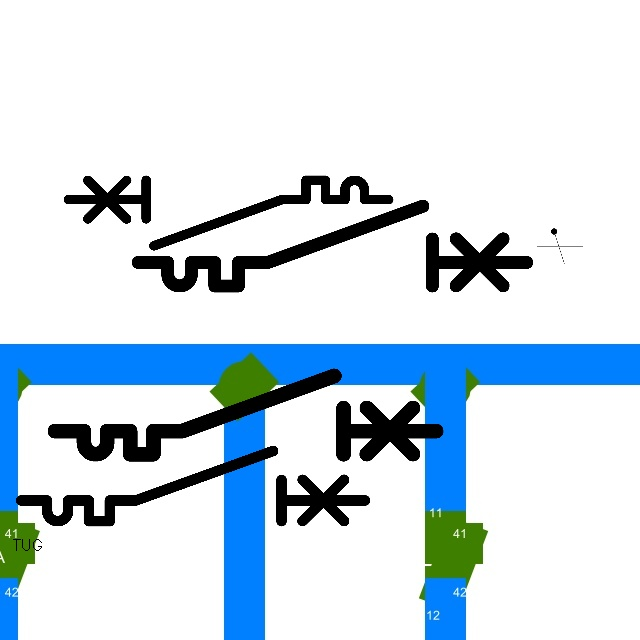interruptor_termomagnetico: (128, 196, 537, 296), (45, 366, 446, 464), (12, 442, 374, 530), (60, 172, 397, 254)
